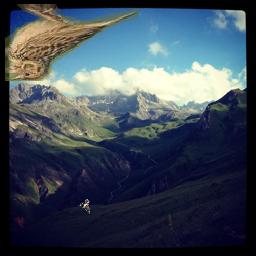Sparrow: (5, 5, 139, 82)
Swallow: (78, 200, 90, 215)
